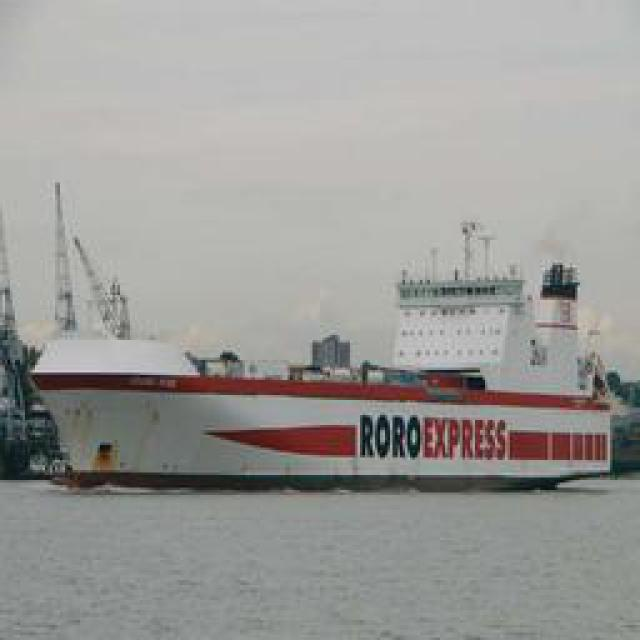Ship: (31, 272, 626, 492)
